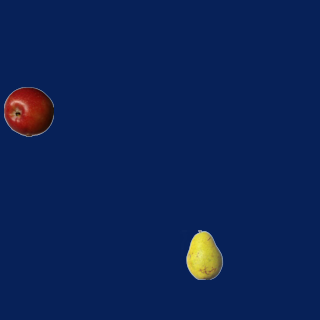Apple Braeburn: (3, 86, 53, 136)
Pear Monster: (179, 229, 229, 279)
